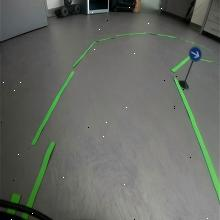right: (189, 47, 201, 62)
